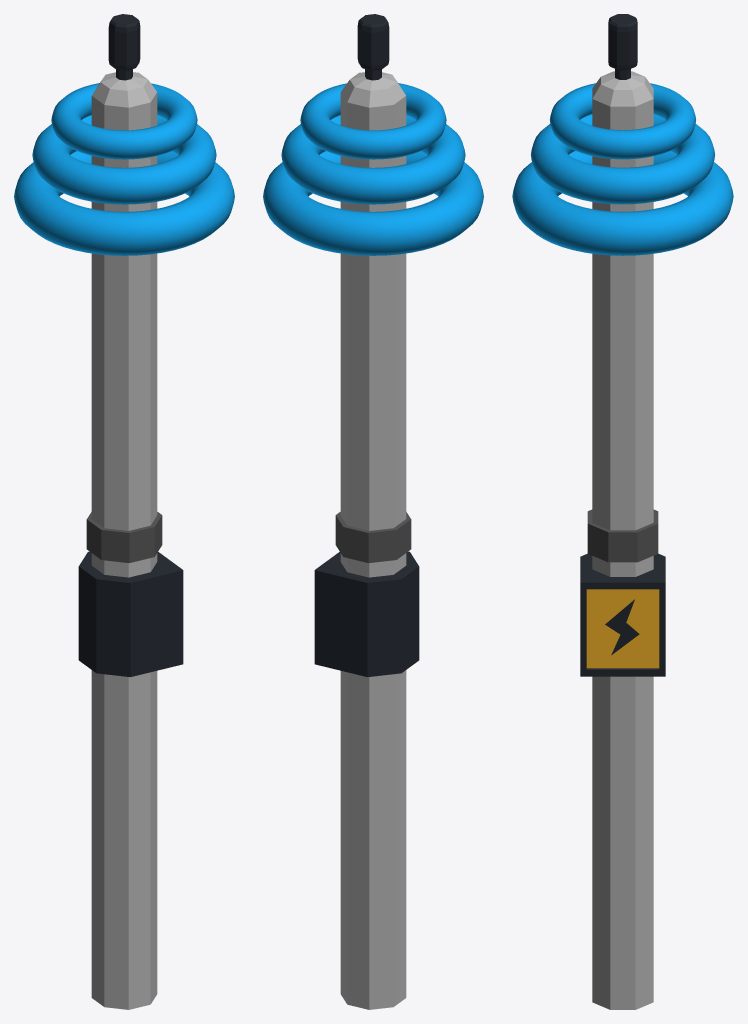
The model's file is Electric_Pole.fbx.
3 renders of one model, left to right at view 1: azimuth 30°, elevation 25°; view 2: azimuth 150°, elevation 25°; view 3: azimuth 270°, elevation 25°, orthographic.
Parts seen in each view (by area): view 1: direk, halkalar; view 2: direk, halkalar; view 3: direk, halkalar.
Boxes of the visible parts, <box> form: direk: <box>78,14,183,1009</box>; halkalar: <box>14,83,234,255</box>; direk: <box>314,14,419,1009</box>; halkalar: <box>263,83,483,255</box>; direk: <box>580,14,665,1009</box>; halkalar: <box>512,83,733,255</box>.
Bounding box in the file's own units: 2.34 × 11.41 × 2.34.
